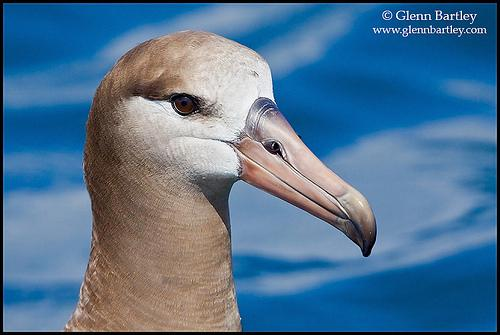001.Black_footed_Albatross: (65, 27, 377, 334)
